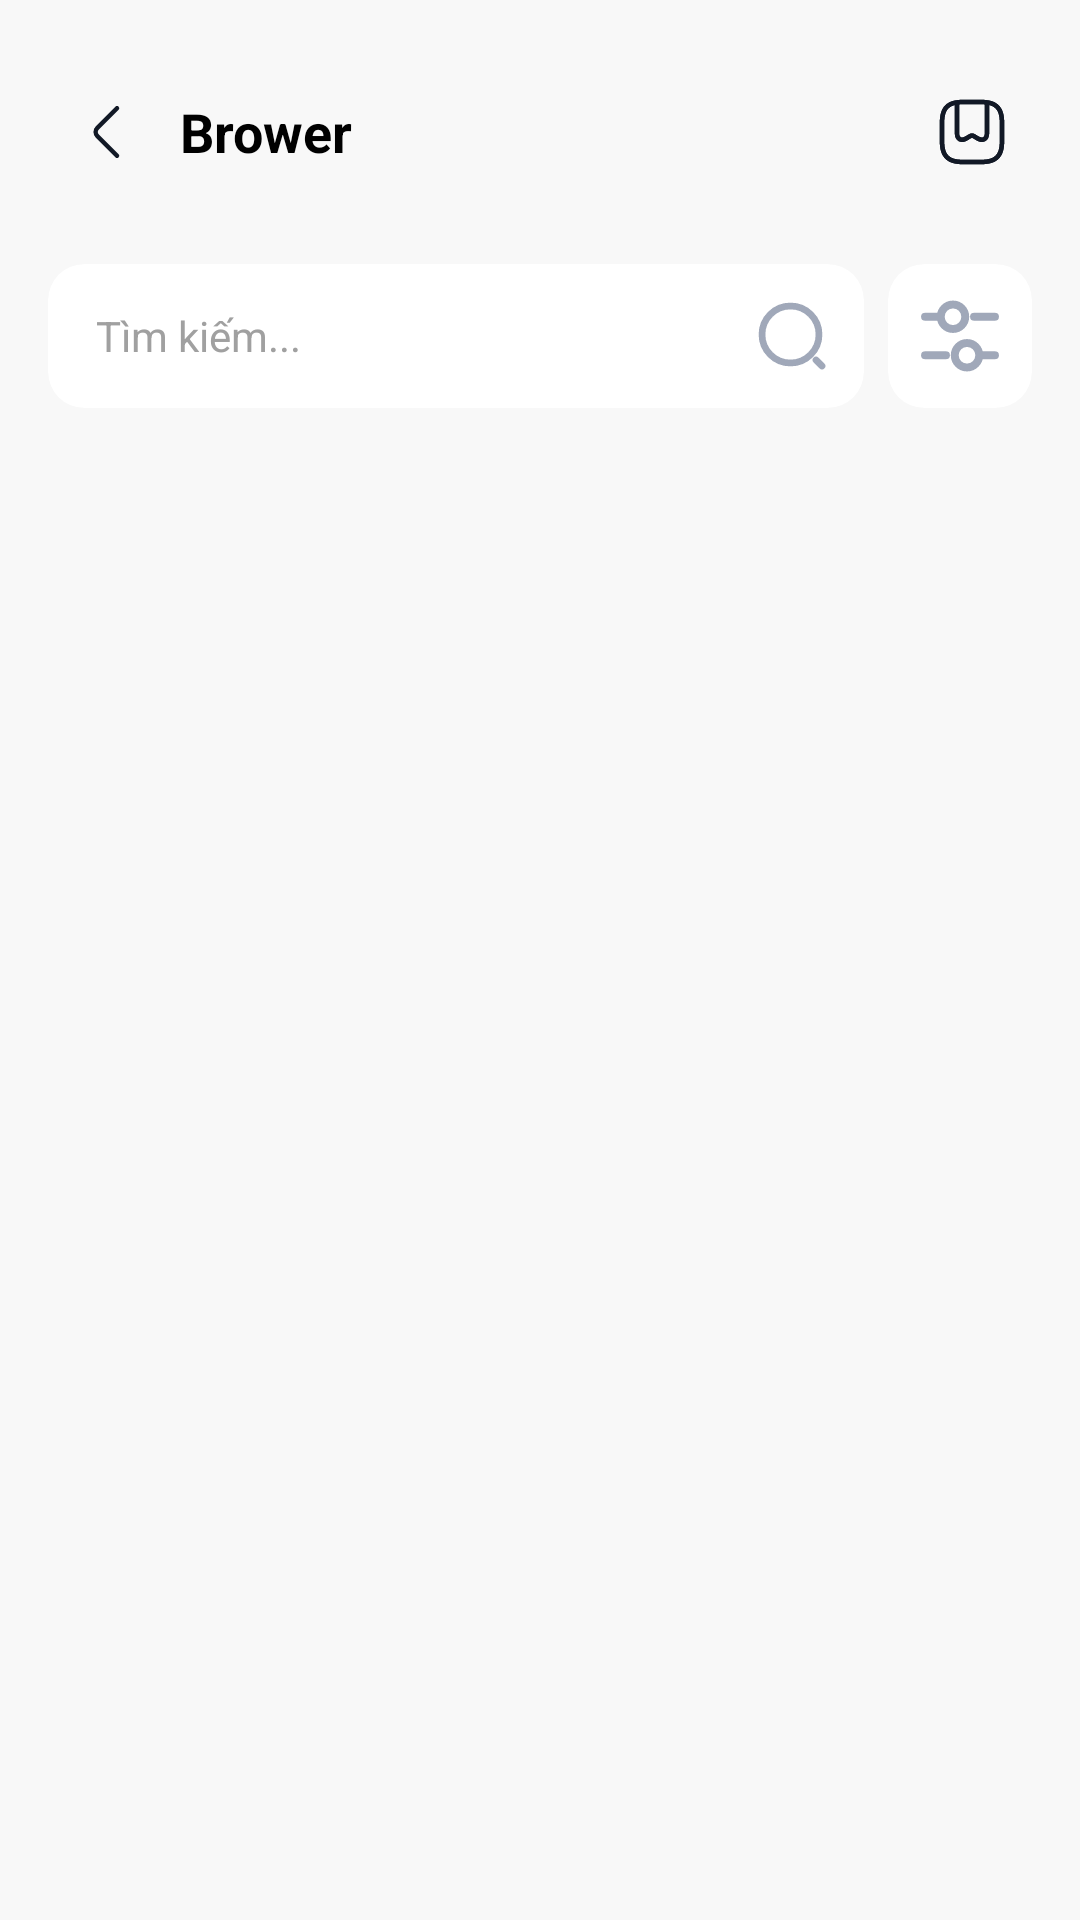

Icons on this 1080w x 1920h Android screen, each with its box as (x1, y1, x2, y2):
Bookmark: (939, 99, 1005, 165)
filter: (921, 300, 999, 372)
Quay lại: (93, 106, 120, 158)
search: (759, 303, 826, 370)
